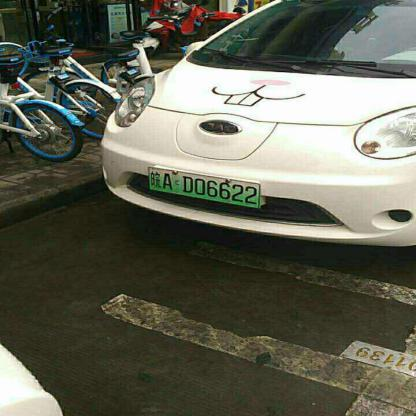lp: (146, 168, 260, 209)
